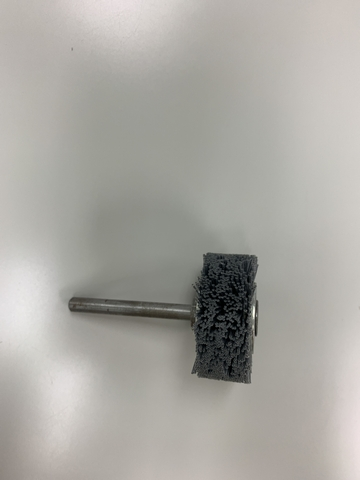Wheel Brush: (62, 249, 259, 390), (138, 240, 276, 392)
